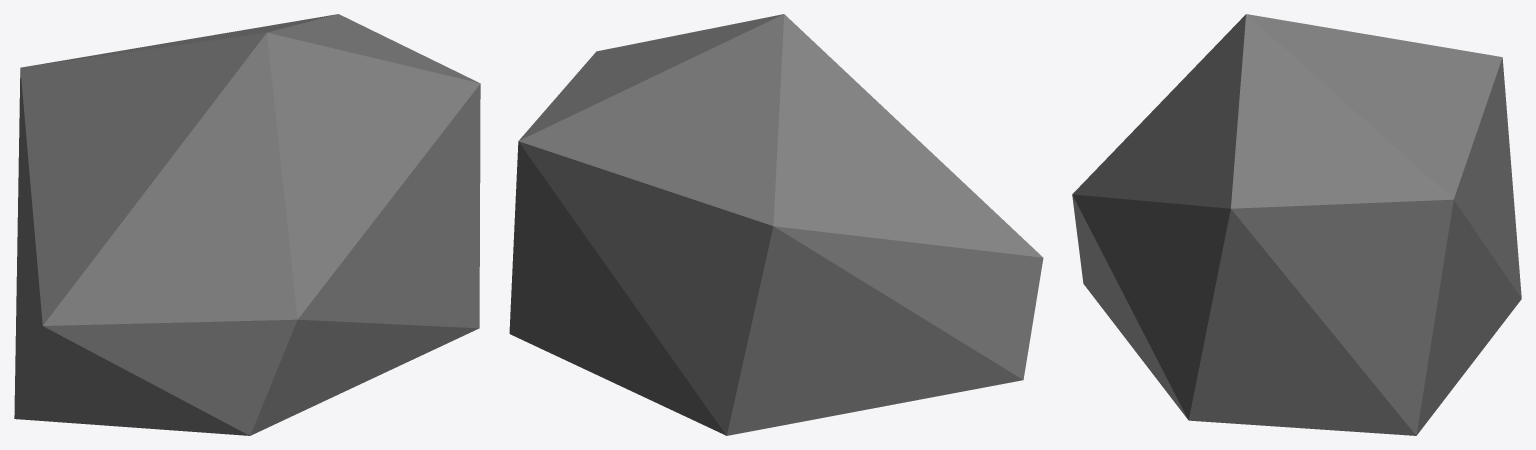
The model's file is rock2.fbx.
3 renders of one model, left to right at view 1: azimuth 30°, elevation 25°; view 2: azimuth 150°, elevation 25°; view 3: azimuth 270°, elevation 25°, orthographic. The views are drawn at different scales.
Parts seen in each view (by area): view 1: Cube; view 2: Cube; view 3: Cube.
Part boxes in pixels (x1,y1,x2,y2): Cube: (14,14,480,435); Cube: (509,14,1043,435); Cube: (1072,14,1521,435).
Size of the model in its own units: 56.84 by 38.48 by 48.56.
